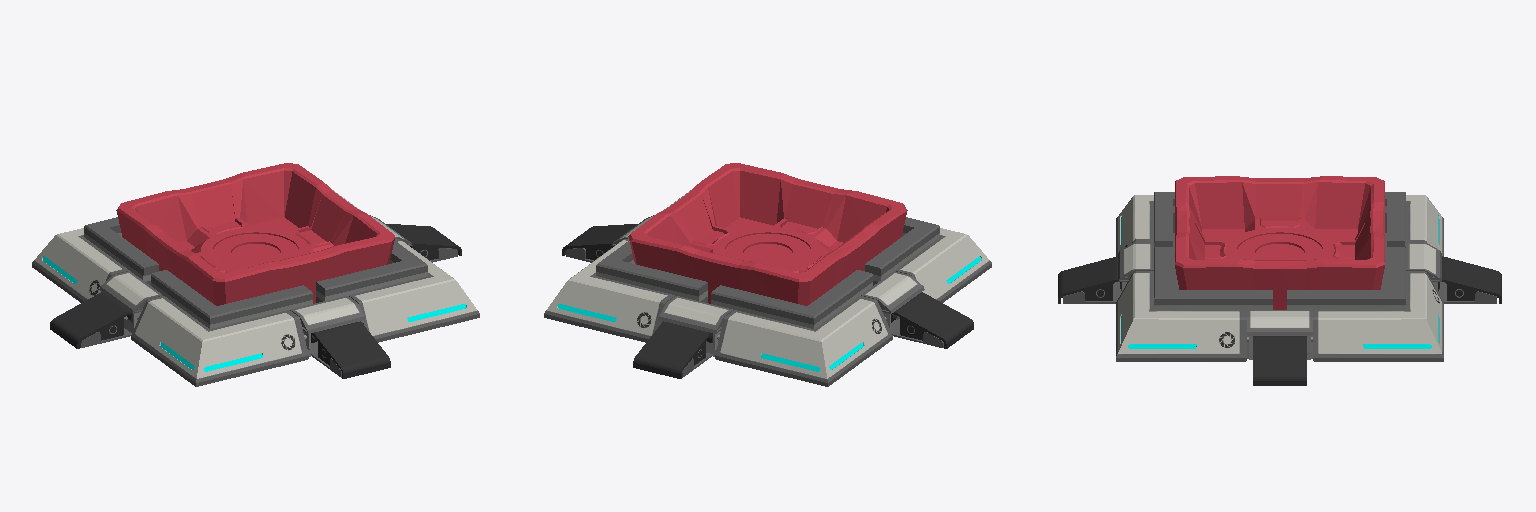
3 views of the same model, side by side, from view 1: azimuth 30°, elevation 25°; view 2: azimuth 150°, elevation 25°; view 3: azimuth 270°, elevation 25° (orthographic).
Visible parts, largest first — view 1: box_socket_model; view 2: box_socket_model; view 3: box_socket_model.
Boxes of the visible parts, <box> form: box_socket_model: <box>32,163,479,386</box>; box_socket_model: <box>544,163,991,386</box>; box_socket_model: <box>1058,176,1501,385</box>.
Size of the model in its own units: 0.8092 by 0.1465 by 0.8092.
Materials: 1 (1 with a texture image).